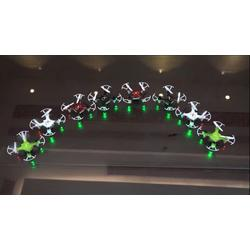drone: (7, 129, 46, 163), (29, 107, 67, 141), (198, 121, 238, 153), (153, 80, 187, 117), (174, 98, 212, 130), (87, 83, 122, 115), (118, 79, 153, 109), (60, 92, 90, 125)
